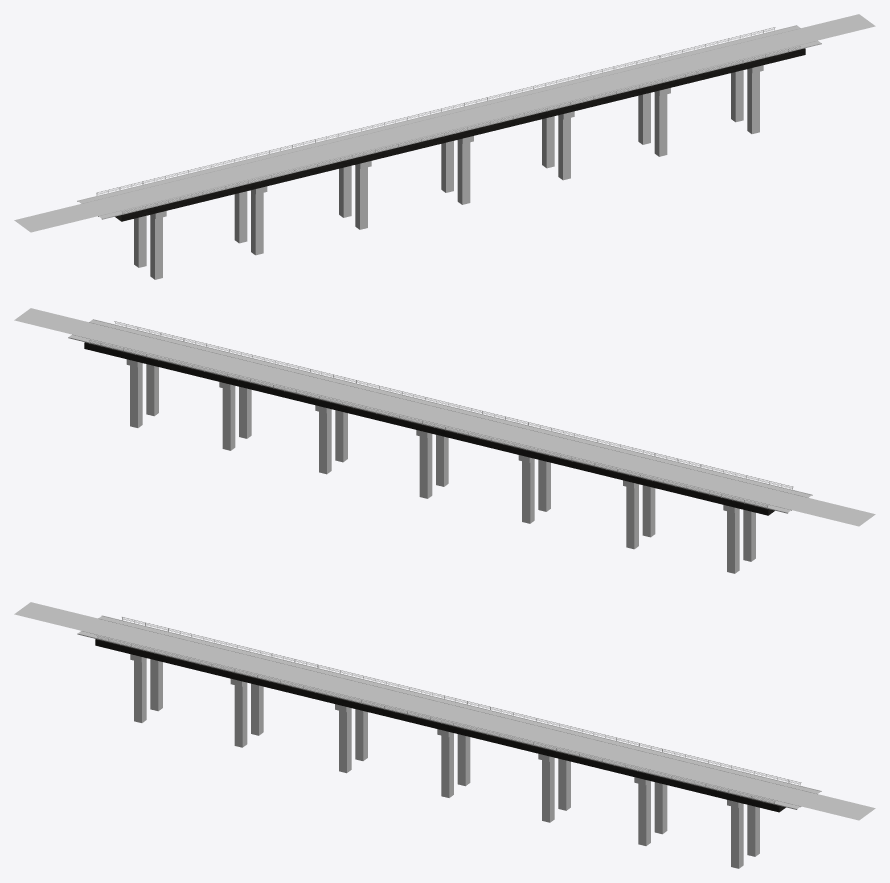
File: Bridge02.fbx
The picture shows the model from 3 angles, top to bottom: view 1: azimuth 30°, elevation 25°; view 2: azimuth 150°, elevation 25°; view 3: azimuth 330°, elevation 25°; orthographic projection.
Visible parts, largest first — view 1: Bridge02; view 2: Bridge02; view 3: Bridge02.
Part boxes in pixels (x1,y1,x2,y2): Bridge02: [14, 14, 875, 279]; Bridge02: [14, 308, 875, 573]; Bridge02: [14, 602, 875, 868].
Size of the model in its own units: 29017 by 2584 by 1562.
